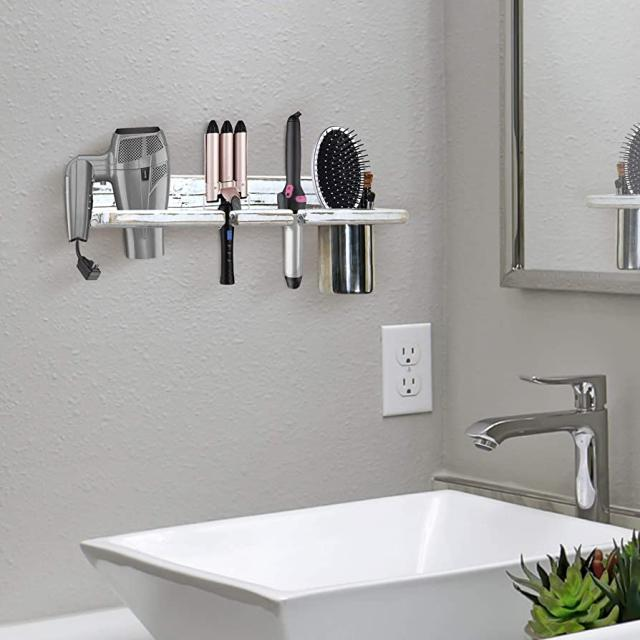dryer: (49, 113, 184, 279)
